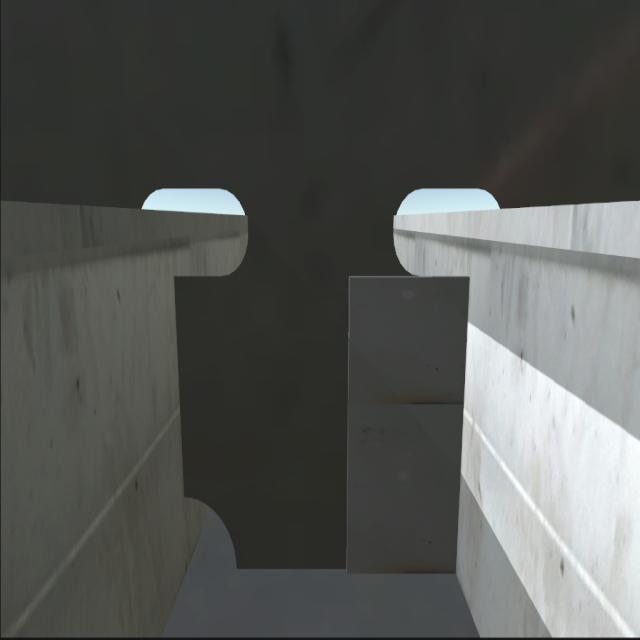fillet_hole: (184, 499, 240, 573)
fillet_yong_jeop_jang: (229, 548, 466, 588)
longi_yong_jeop_jang: (448, 268, 476, 582), (162, 269, 196, 511)
plate_CP01: (345, 268, 461, 568)
